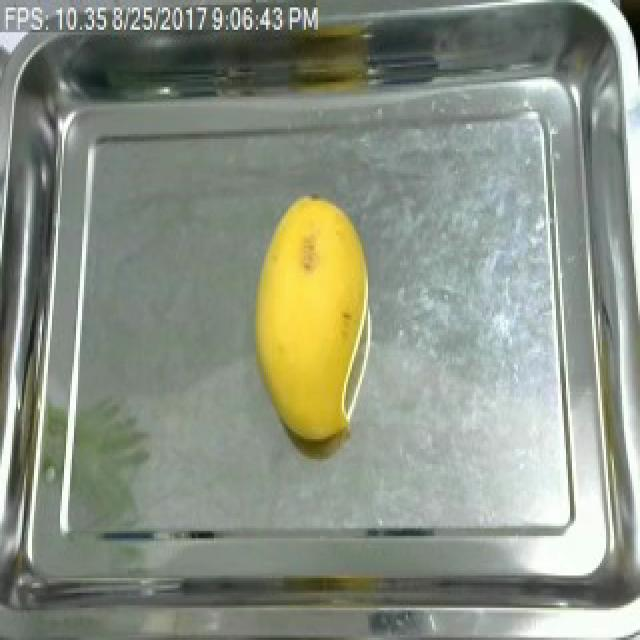fruit: (240, 186, 382, 456)
